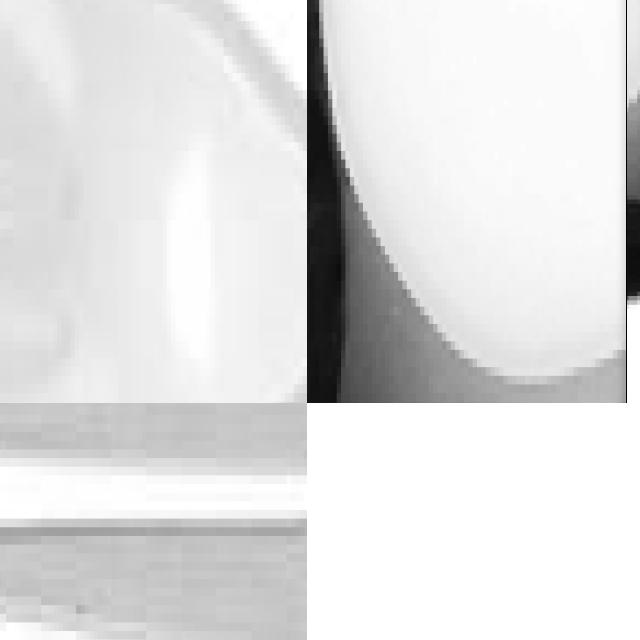forks: (0, 0, 307, 403), (0, 403, 307, 640)
spoons: (307, 0, 640, 388)
